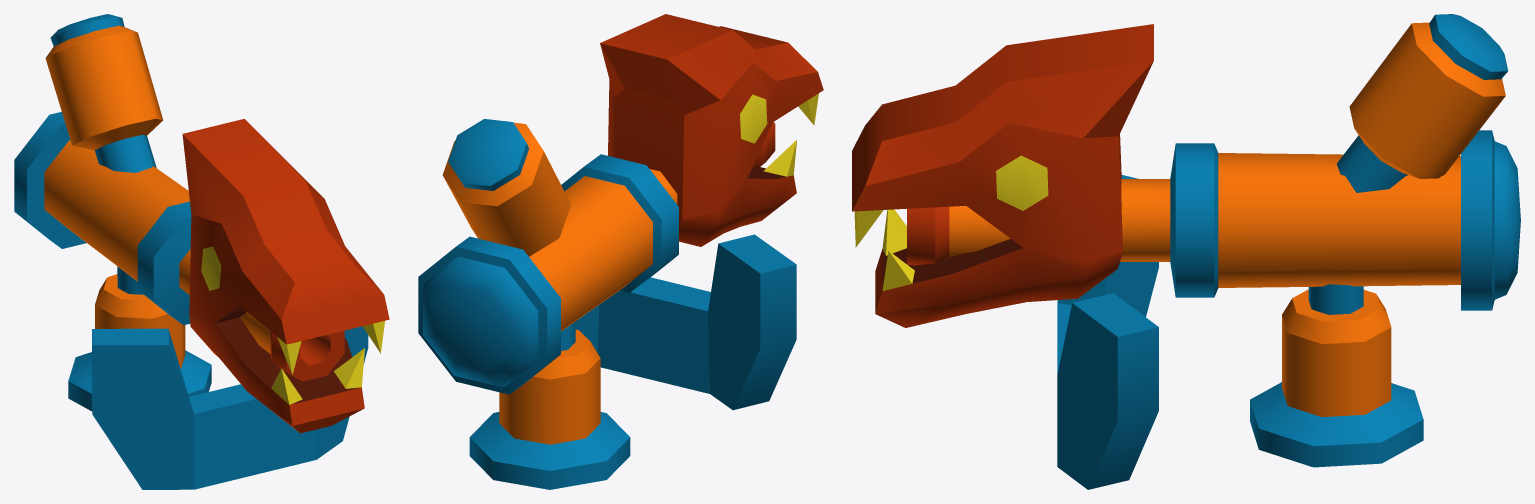
Rendered from Weapon_Flamethrower_01.fbx.
The picture shows the model from 3 angles, left to right: view 1: azimuth 30°, elevation 25°; view 2: azimuth 150°, elevation 25°; view 3: azimuth 270°, elevation 25°; orthographic projection. The views are drawn at different scales.
Parts seen in each view (by area): view 1: Weapon_Flamethrower_01_Barrel, Weapon_Flamethrower_01; view 2: Weapon_Flamethrower_01_Barrel, Weapon_Flamethrower_01; view 3: Weapon_Flamethrower_01_Barrel, Weapon_Flamethrower_01.
Boxes of the visible parts, box(x1,y1,x2,y2) form: Weapon_Flamethrower_01_Barrel: box(14, 14, 389, 433); Weapon_Flamethrower_01: box(68, 266, 368, 489); Weapon_Flamethrower_01_Barrel: box(418, 14, 823, 394); Weapon_Flamethrower_01: box(469, 234, 796, 489); Weapon_Flamethrower_01_Barrel: box(852, 14, 1520, 327); Weapon_Flamethrower_01: box(1057, 175, 1423, 489).
Bounding box in the file's own units: 432 × 510 × 749.
